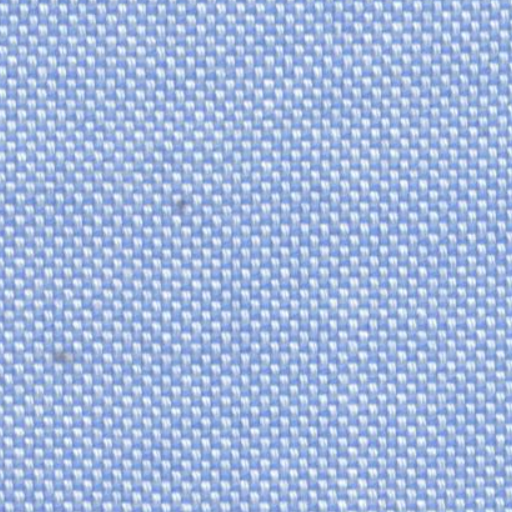WuZi: (48, 335, 104, 382), (157, 180, 204, 234)
